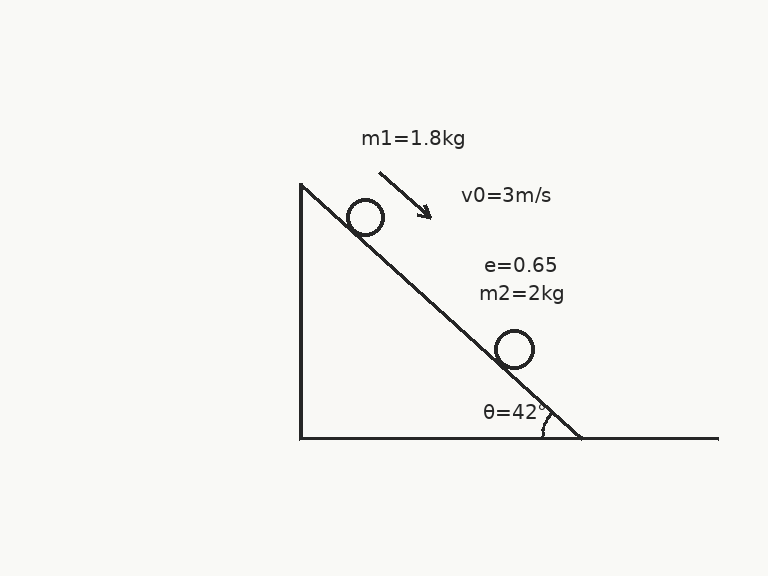ball: (492, 327, 536, 371), (344, 196, 386, 238)
ramp: (298, 182, 584, 440)
